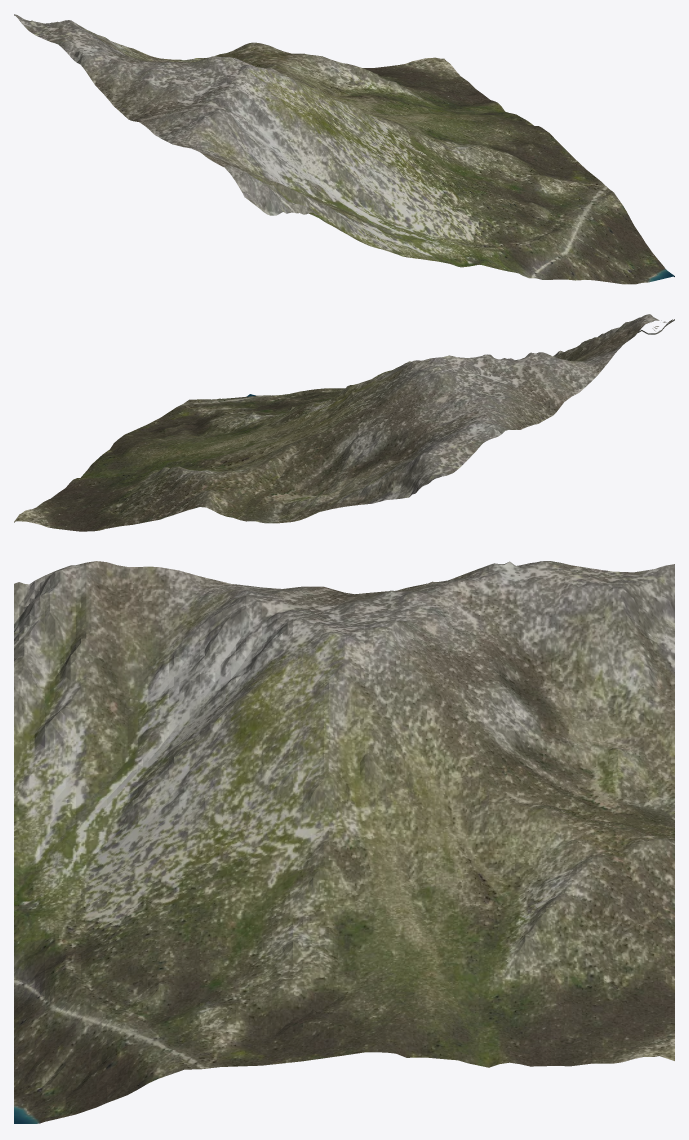
3 renders of one model, top to bottom at view 1: azimuth 30°, elevation 25°; view 2: azimuth 150°, elevation 25°; view 3: azimuth 270°, elevation 25°, orthographic. The views are drawn at different scales.
Size of the model in its own units: 2000 by 904 by 1925.
1 material, 1 textured.
